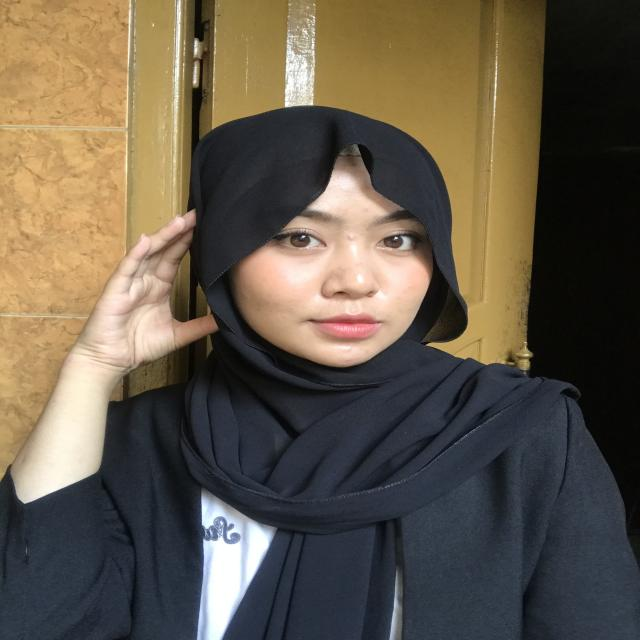mendengar: (75, 214, 232, 373)
